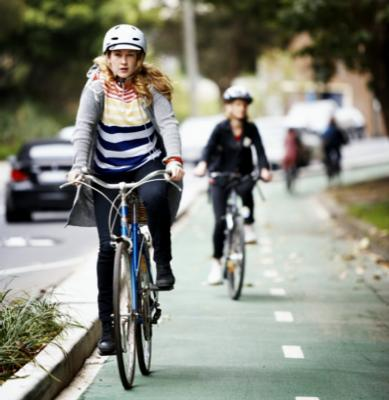With Helmet: (97, 22, 151, 82)
